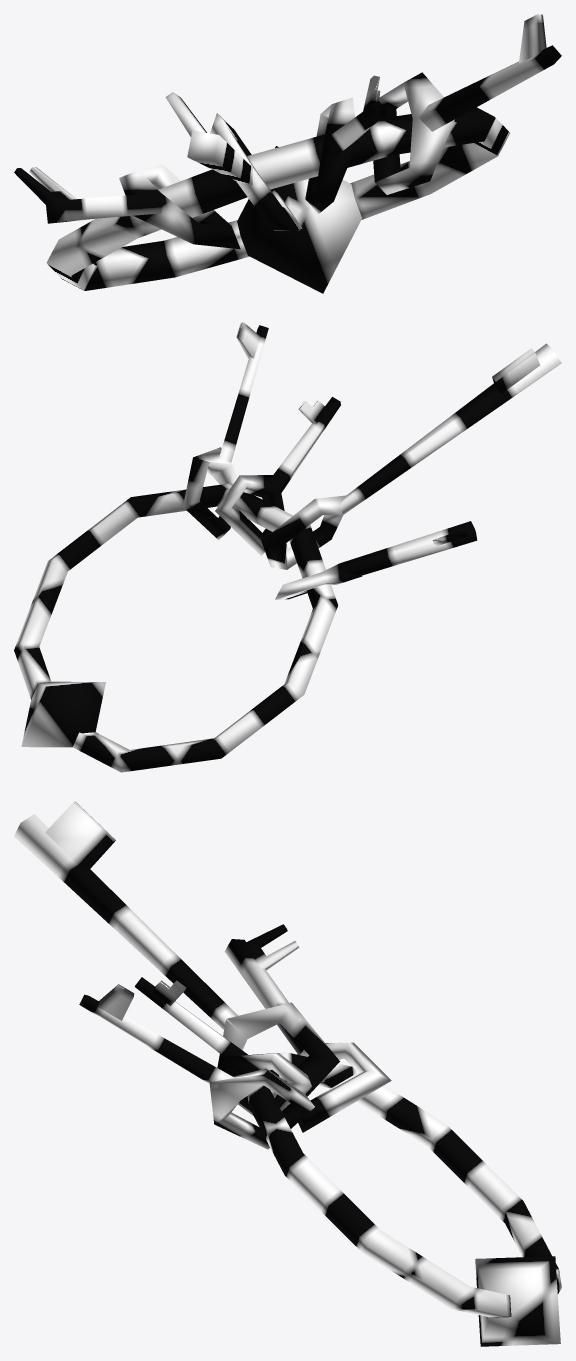
Rendered from initqi33.dae.
3 views of the same model, one above another, from view 1: azimuth 30°, elevation 25°; view 2: azimuth 150°, elevation 25°; view 3: azimuth 270°, elevation 25° (orthographic). The views are drawn at different scales.
Parts seen in each view (by area): view 1: item; view 2: item; view 3: item.
Boxes of the visible parts, x1,y1,x2,y2 form: item: (14,14,561,293); item: (14,322,561,772); item: (14,801,561,1346).
Bounding box in the file's own units: 1.17 × 1.27 × 0.9938.
Materials: 1 (1 with a texture image).
